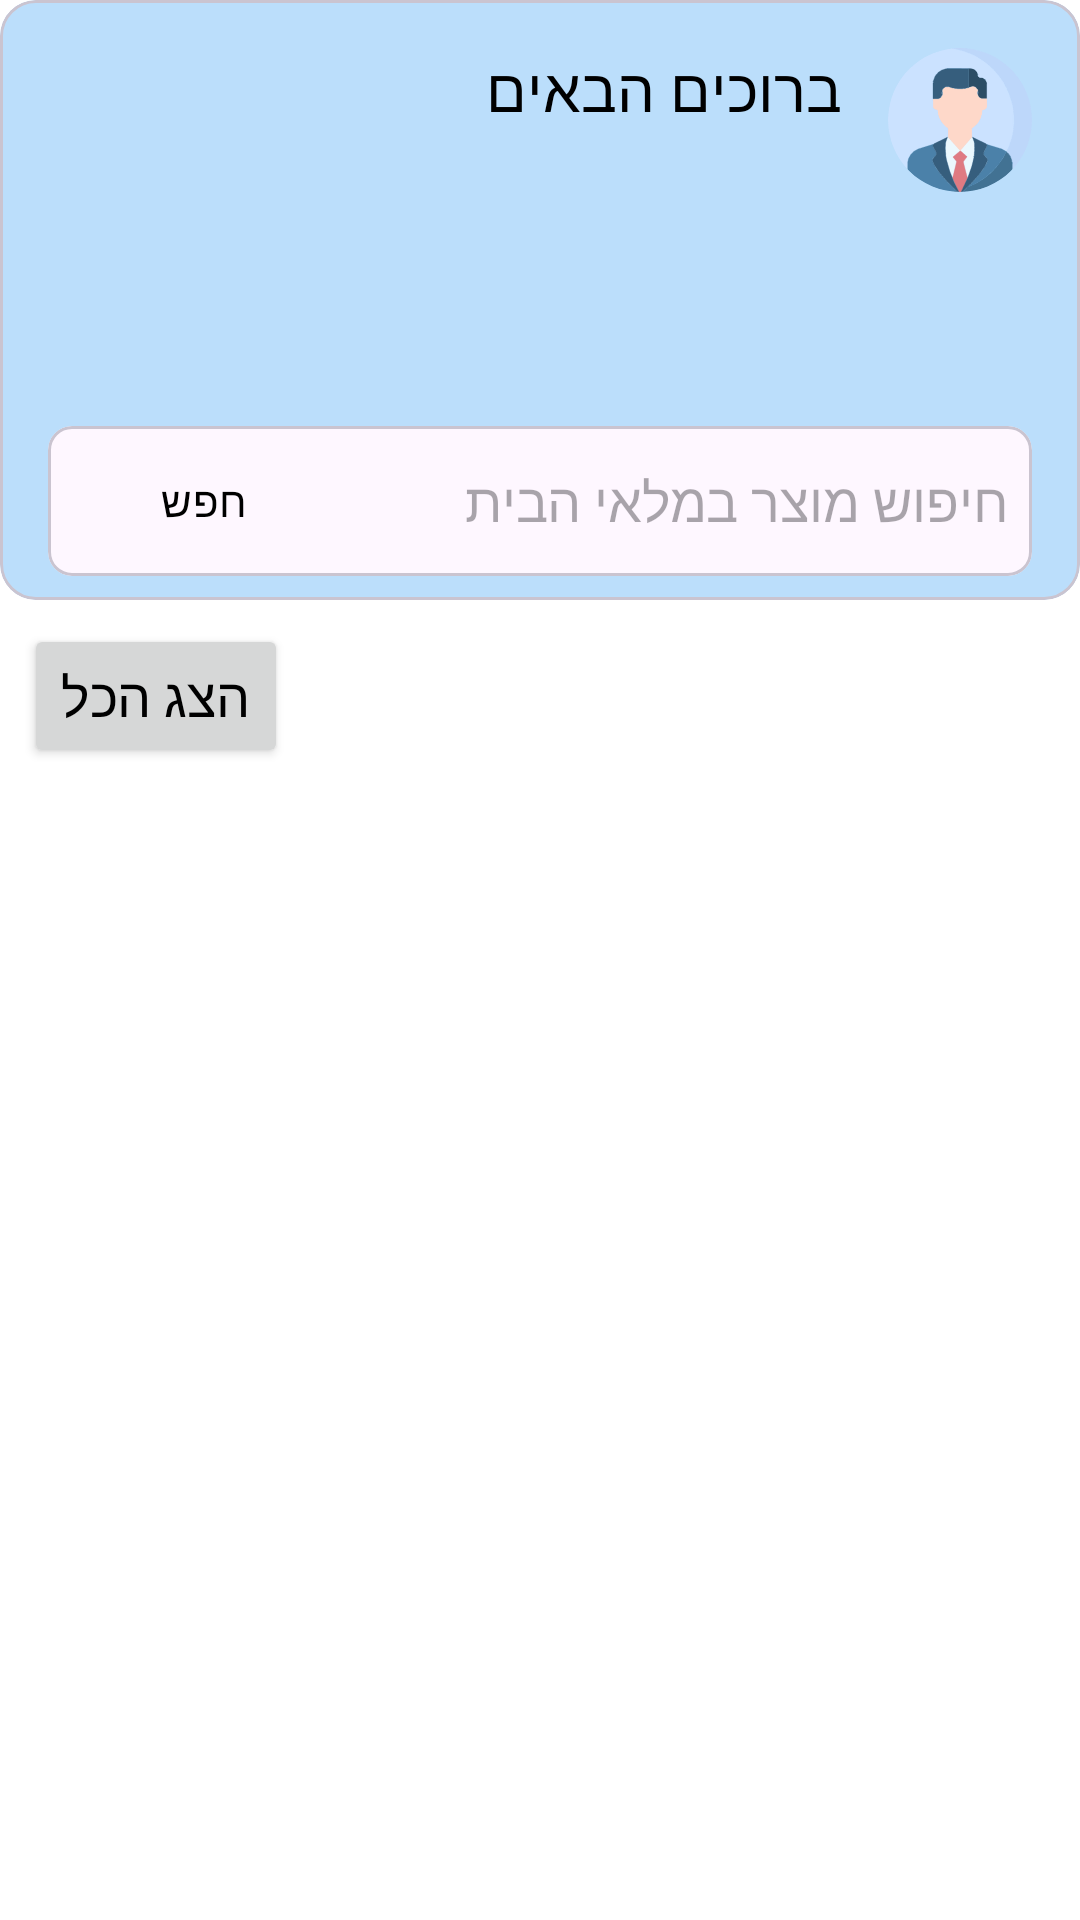

Named icons in this screenshot (1080×1920) and their bounding boxes, bbox=(x1, y1, x2, y2):
profile man: bbox=(907, 68, 1013, 192)
